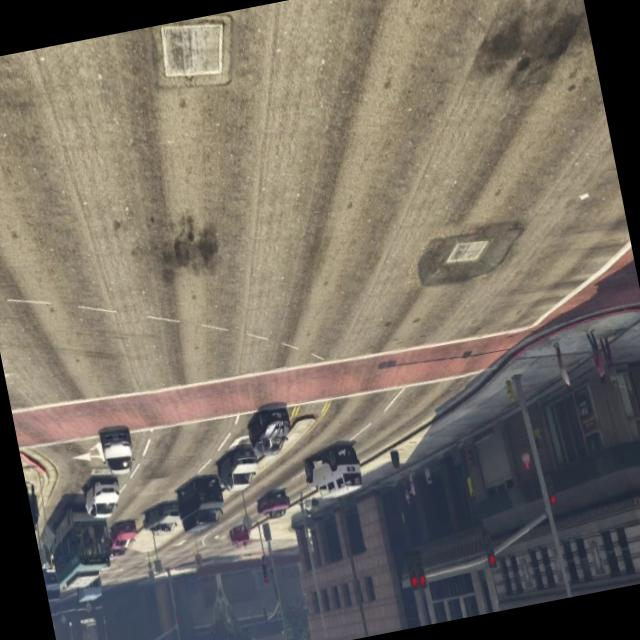Red-Signal: (532, 457, 574, 542), (470, 512, 508, 582), (400, 538, 436, 601)
